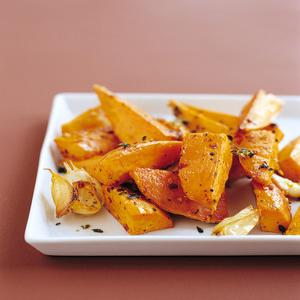fries_350cal: (51, 86, 300, 230)
